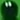black: (0, 0, 20, 20)
